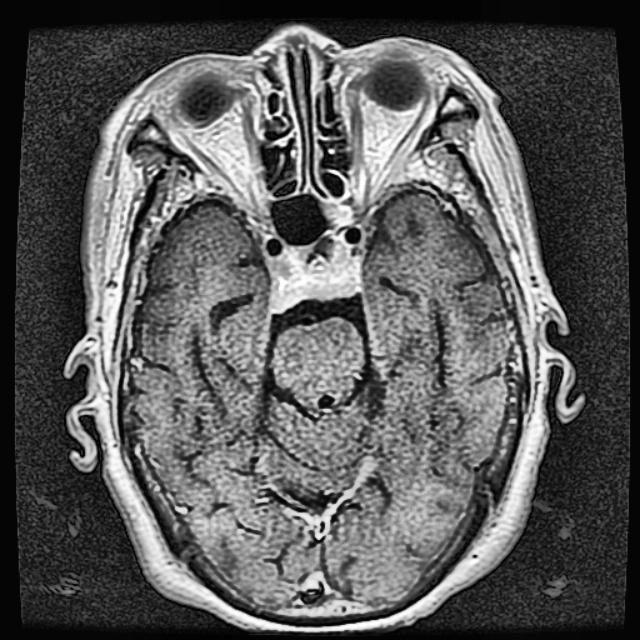Meningioma: (270, 237, 360, 310)
